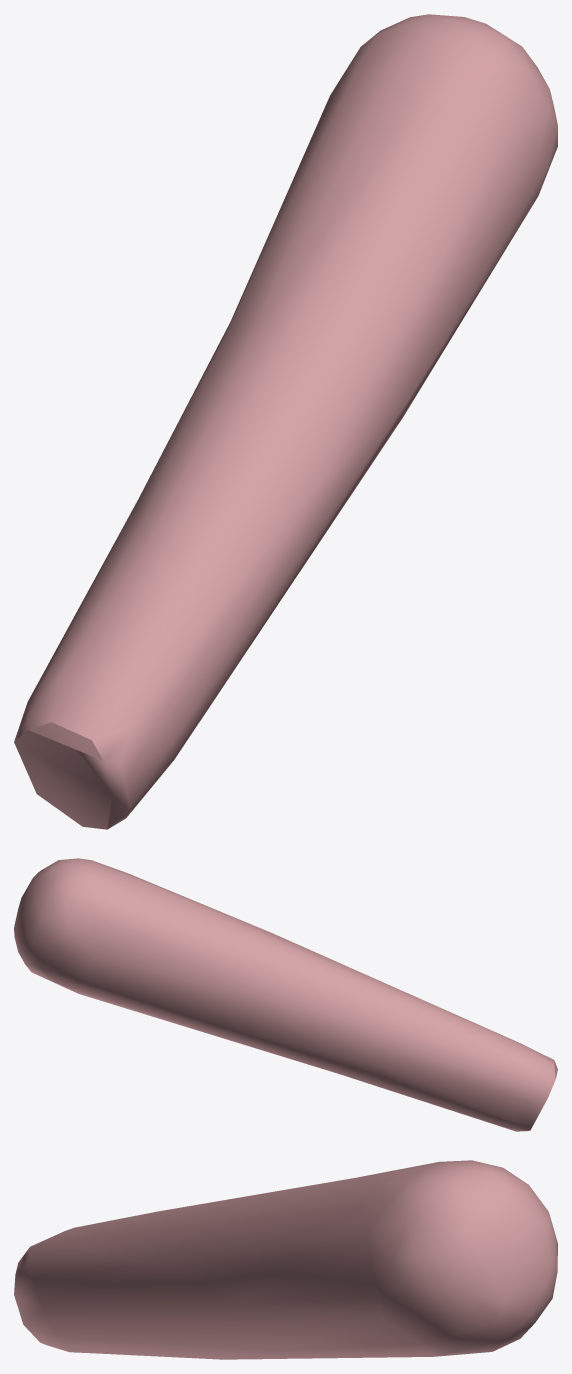
File: fma68220_fj6559.glb
3 renders of one model, top to bottom at view 1: azimuth 30°, elevation 25°; view 2: azimuth 150°, elevation 25°; view 3: azimuth 270°, elevation 25°, orthographic. The views are drawn at different scales.
Visible parts, largest first — view 1: FMA68220_FJ6559; view 2: FMA68220_FJ6559; view 3: FMA68220_FJ6559.
Part boxes in pixels (x1,y1,x2,y2): FMA68220_FJ6559: (14,14,557,829); FMA68220_FJ6559: (14,858,557,1131); FMA68220_FJ6559: (14,1160,557,1359).
Bounding box in the file's own units: 0.00933 × 0.00604 × 0.007.
